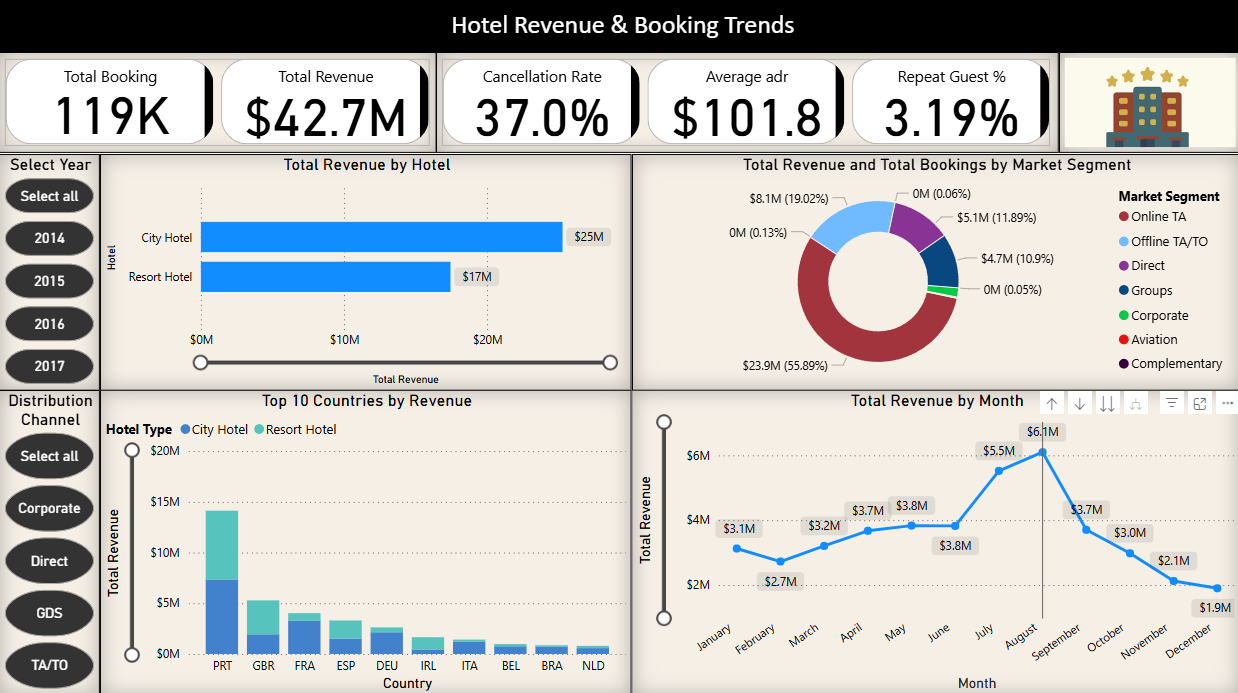

What the dashboard file says about the page in this screenshot:
{"tool":"powerbi","page":{"name":"Dashboard 1","canvas":[1280,720],"ordinal":7},"visuals":[{"type":"textbox","box":[0,0,1280.2,54.9],"z":0},{"type":"cardVisual","fields":{"Data":["Measure Table.total booking","Measure Table.total revenue"]},"box":[0,54.9,450.5,104.4],"z":1000},{"type":"cardVisual","fields":{"Data":["Measure Table.cancellation rate","Measure Table.average adr","Measure Table.repeat guest %"]},"box":[450.5,54.9,641.8,104.4],"z":2000},{"type":"lineChart","title":"Total Revenue by Month","fields":{"Category":["hotel_bookings.reservation_status_date.Variation.Date Hierarchy.Year","hotel_bookings.reservation_status_date.Variation.Date Hierarchy.Quarter","hotel_bookings.reservation_status_date.Variation.Date Hierarchy.Month","hotel_bookings.reservation_status_date.Variation.Date Hierarchy.Day"],"Y":["Measure Table.total revenue"]},"box":[652.7,403.3,627.5,316.5],"z":3000},{"type":"columnChart","title":"Top 10 Countries by Revenue","fields":{"Category":["hotel_bookings.country"],"Y":["Measure Table.total revenue"],"Series":["hotel_bookings.hotel"]},"box":[104.4,403.3,548.4,316.5],"z":4000},{"type":"barChart","title":"Total Revenue by Hotel","fields":{"Category":["hotel_bookings.hotel"],"Y":["Measure Table.total revenue"]},"box":[104.4,159.3,548.4,244],"z":5000},{"type":"advancedSlicerVisual","title":"Select Year","fields":{"Values":["hotel_bookings.reservation_status_date.Variation.Date Hierarchy.Year"]},"box":[0,159.3,104.4,244],"z":6000},{"type":"donutChart","title":"Total Revenue and Total Bookings by Market Segment","fields":{"Category":["hotel_bookings.market_segment"],"Y":["Measure Table.total revenue","Measure Table.total booking"]},"box":[652.7,159.3,627.5,244],"z":7000},{"type":"advancedSlicerVisual","title":"Distribution Channel","fields":{"Values":["hotel_bookings.distribution_channel"]},"box":[0,403.3,104.4,316.5],"z":8000},{"type":"image","box":[1092.3,54.9,187.9,104.4],"z":9000}]}

Visuals, with their boxes in screenshot pixels (x1, y1, x2, y2), scaled from the page's 1280x720 canvas onto the 1238x693 screenshot:
textbox: box=[0, 0, 1237, 53]
cardVisual - Measure Table.total booking x Measure Table.total revenue: box=[0, 53, 436, 153]
cardVisual - Measure Table.cancellation rate x Measure Table.average adr: box=[436, 53, 1056, 153]
"Total Revenue by Month" lineChart: box=[631, 388, 1237, 692]
"Top 10 Countries by Revenue" columnChart: box=[101, 388, 631, 692]
"Total Revenue by Hotel" barChart: box=[101, 153, 631, 388]
"Select Year" advancedSlicerVisual: box=[0, 153, 101, 388]
"Total Revenue and Total Bookings by Market Segment" donutChart: box=[631, 153, 1237, 388]
"Distribution Channel" advancedSlicerVisual: box=[0, 388, 101, 692]
image: box=[1056, 53, 1237, 153]
